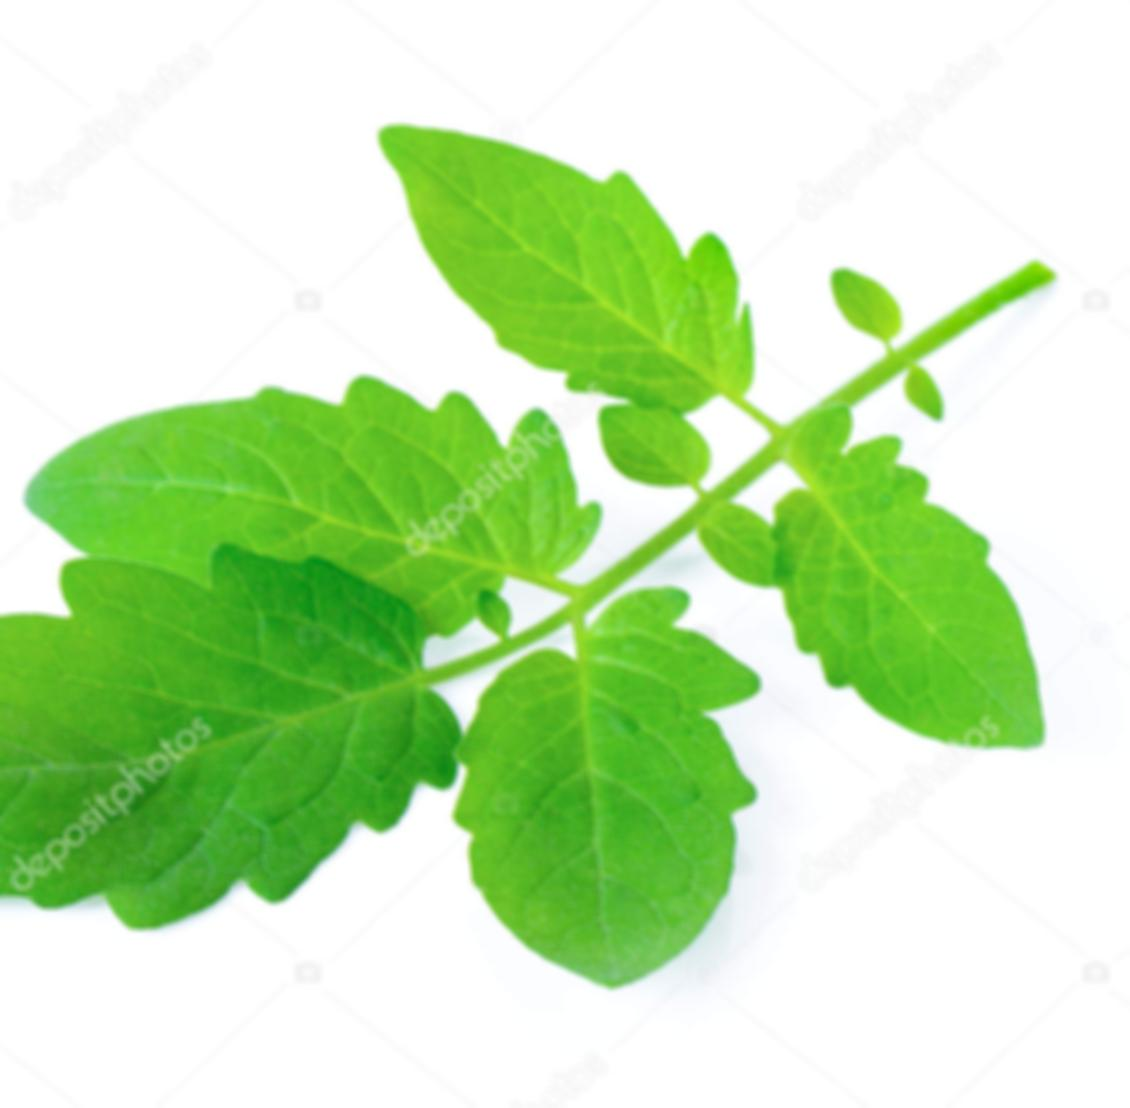Tomato leaf: (20, 360, 611, 668), (0, 551, 455, 932), (350, 85, 784, 438), (437, 579, 769, 1013), (760, 424, 1078, 777)
